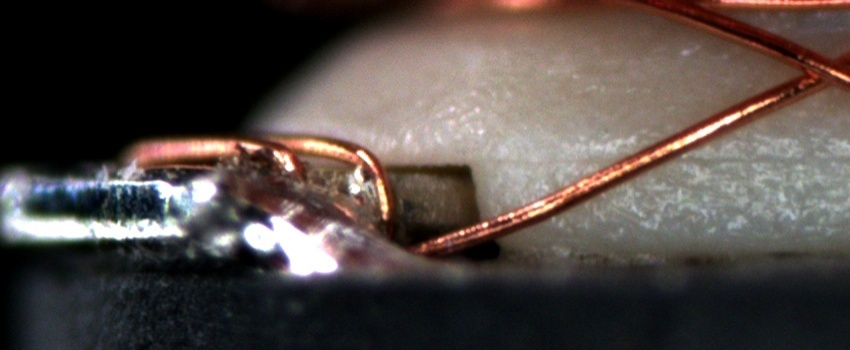CL: (774, 42, 846, 98)
DL: (499, 128, 850, 189)
TE: (120, 126, 402, 229)
